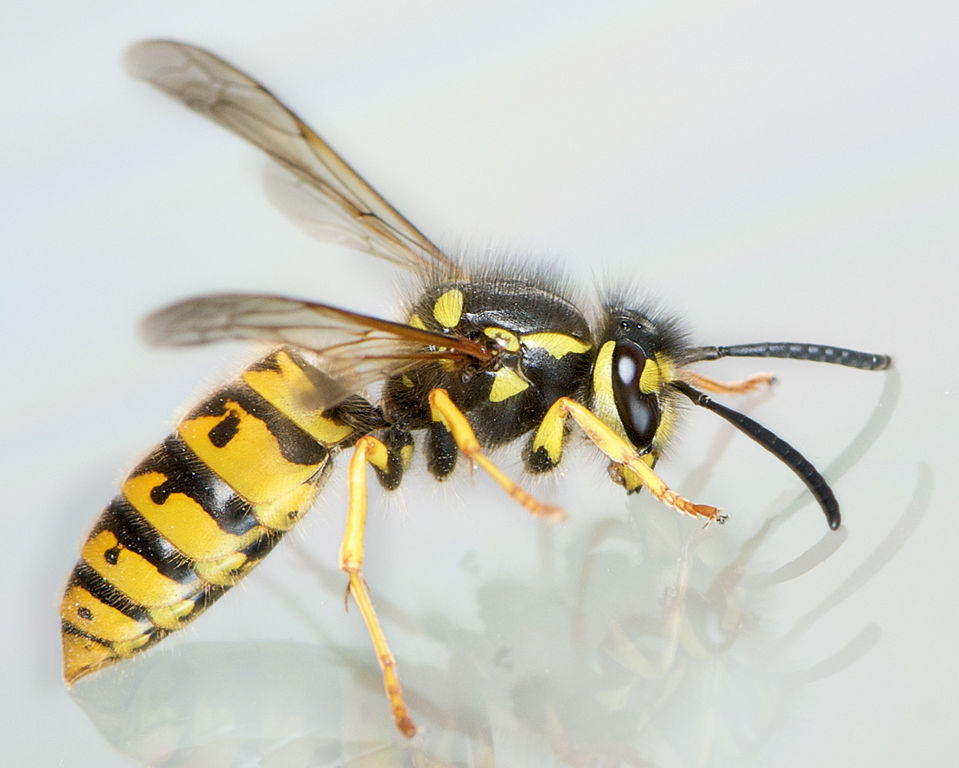chax: (25, 21, 913, 761)
